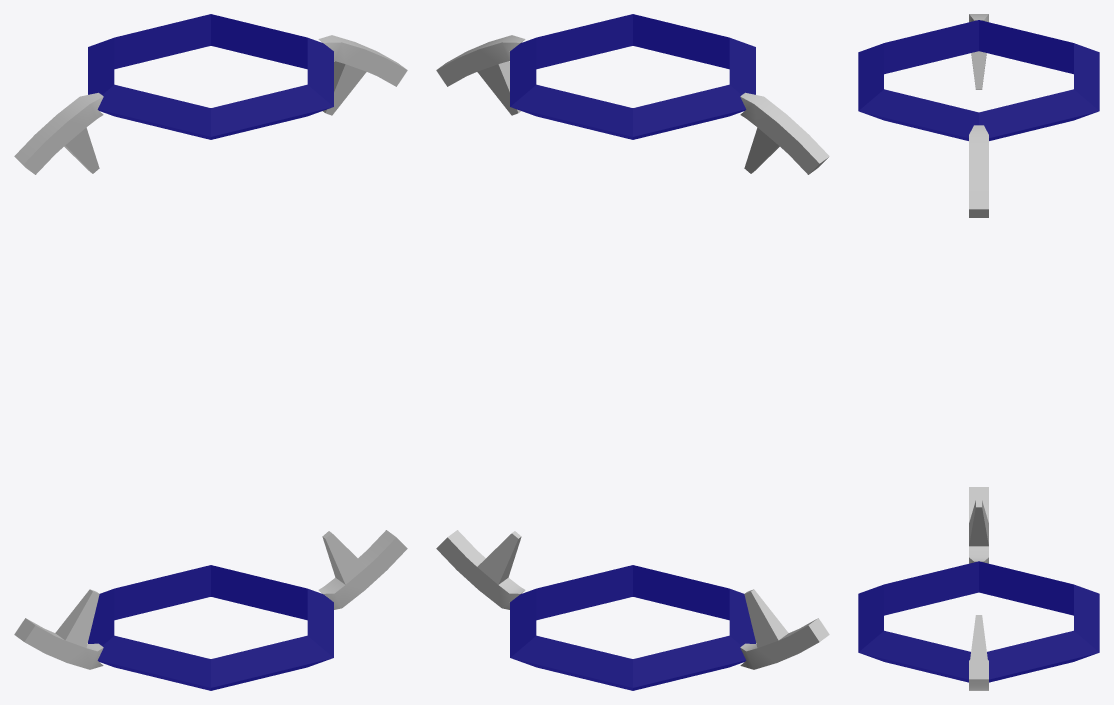
Rendered from ElevatorRing.fbx.
The picture shows the model from 3 angles, left to right: view 1: azimuth 30°, elevation 25°; view 2: azimuth 150°, elevation 25°; view 3: azimuth 270°, elevation 25°; orthographic projection.
Parts seen in each view (by area): view 1: IndicatorTorus_plus, IndicatorTorus_minus, ElevatorRim; view 2: IndicatorTorus_plus, IndicatorTorus_minus, ElevatorRim; view 3: IndicatorTorus_plus, IndicatorTorus_minus, ElevatorRim.
Boxes of the visible parts, left/top/right/bottom form: IndicatorTorus_plus: left=88, top=14, right=333, bottom=139; IndicatorTorus_minus: left=88, top=565, right=333, bottom=690; ElevatorRim: left=14, top=35, right=407, bottom=669; IndicatorTorus_plus: left=510, top=14, right=755, bottom=139; IndicatorTorus_minus: left=510, top=565, right=755, bottom=690; ElevatorRim: left=436, top=35, right=829, bottom=669; IndicatorTorus_plus: left=858, top=20, right=1099, bottom=140; IndicatorTorus_minus: left=858, top=561, right=1099, bottom=682; ElevatorRim: left=969, top=14, right=988, bottom=690.
Bounding box in the file's own units: 8.74 × 4.85 × 12.69.
